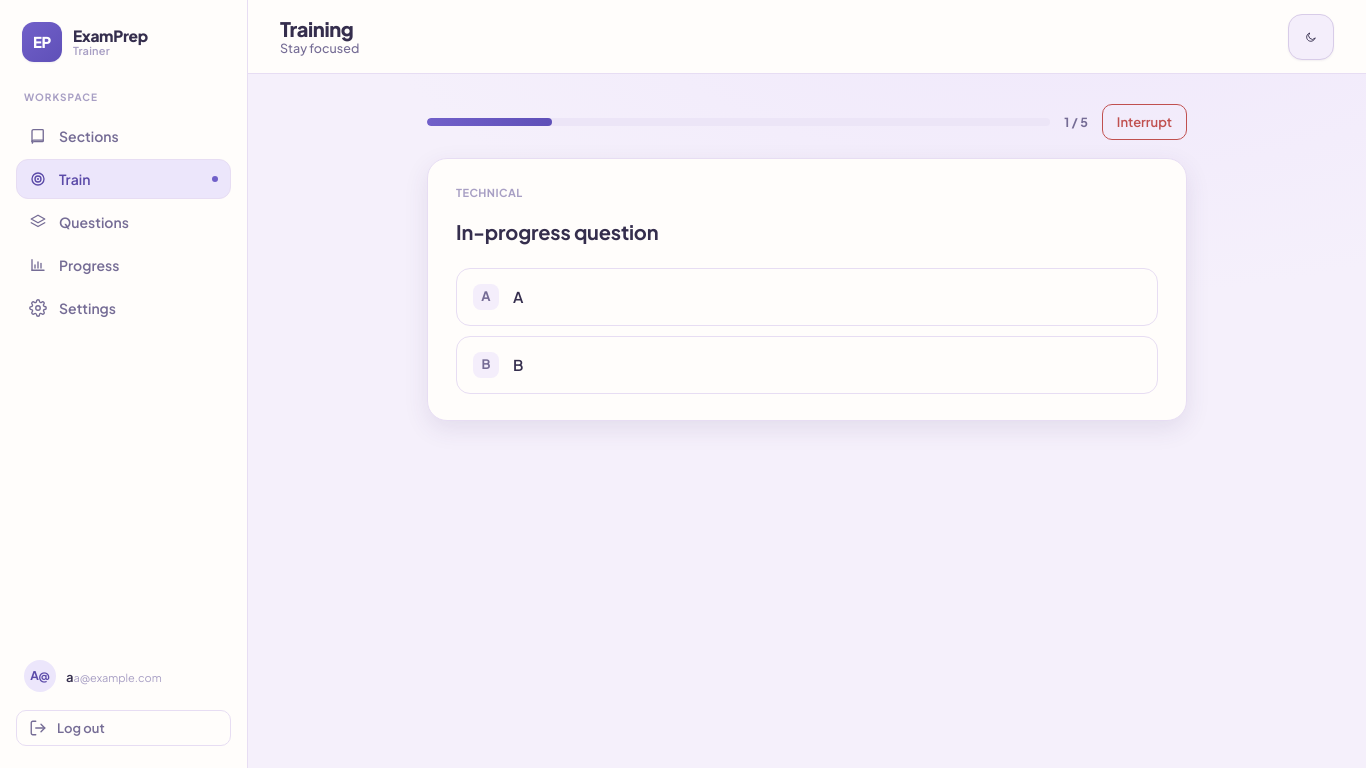
App session resume › resumes the in-progress session after navigating to Settings and back to Train, instead of starting a new one
Expected: the text "In-progress question" is shown, [456,218,658,244]
// Navigate away to Settings...
Click the button titled "Settings". click: (124, 308)
box: [16,288,231,328]
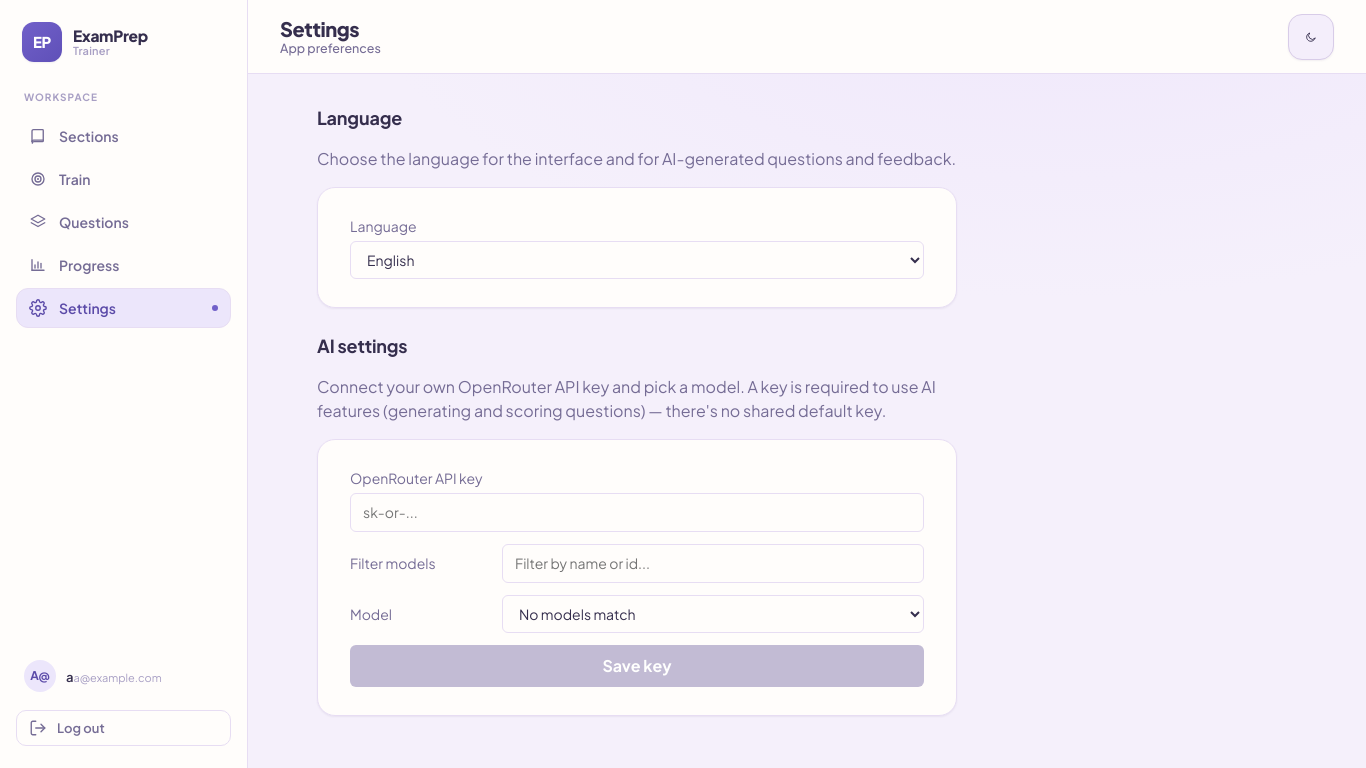
Now the text "In-progress question" is gone
// ...and back to Train: must resume session 42, not open the new-session form.
Click the button titled "Train". click: (124, 179)
box: [16,159,231,199]
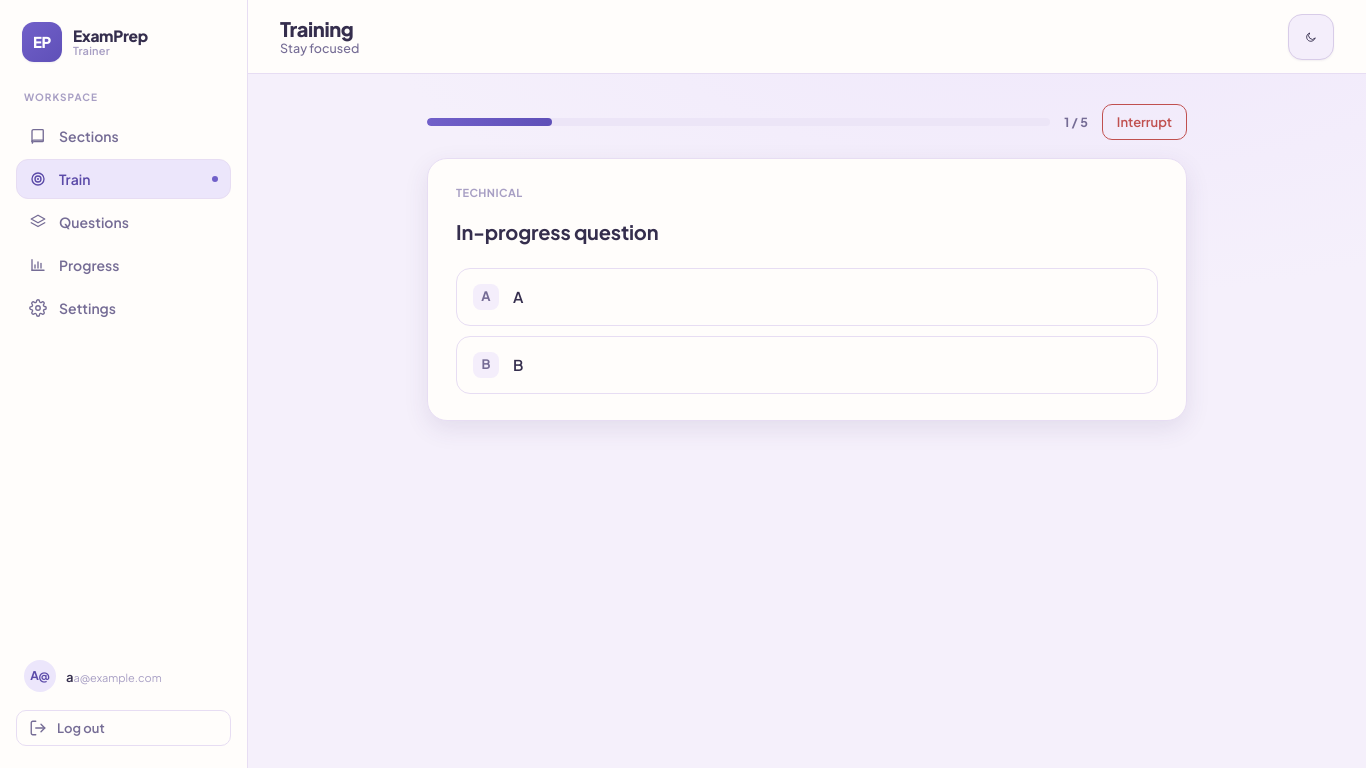
Now the text "In-progress question" is shown, box [456,218,658,244]
